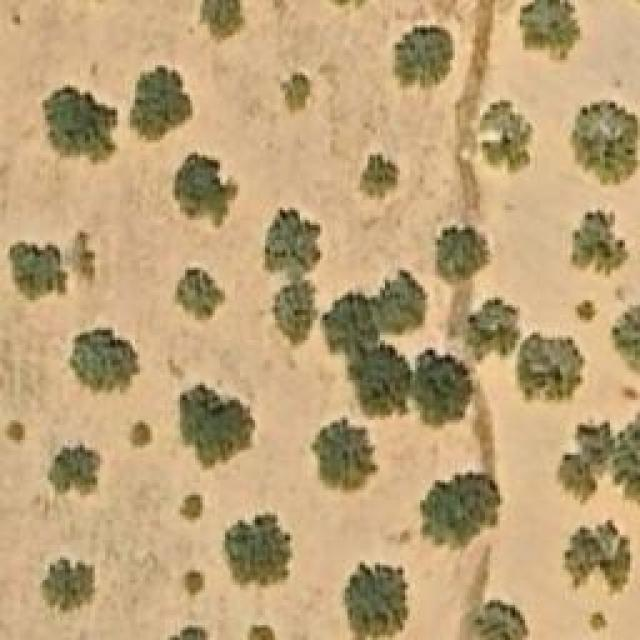Tree: (177, 385, 255, 470), (570, 103, 640, 188), (560, 518, 633, 598), (43, 88, 118, 163), (223, 513, 293, 588), (423, 475, 503, 540), (310, 420, 378, 493), (130, 65, 193, 143), (173, 153, 238, 228), (70, 327, 140, 395), (345, 565, 405, 640), (263, 205, 323, 278), (570, 208, 630, 278), (390, 25, 453, 90), (517, 0, 582, 62), (8, 240, 71, 300), (265, 283, 323, 348), (513, 338, 576, 393), (480, 100, 533, 165), (348, 348, 401, 413), (415, 353, 463, 423), (43, 558, 98, 613), (48, 445, 103, 500), (375, 273, 423, 336), (173, 268, 226, 323), (438, 228, 488, 283), (610, 303, 640, 383), (325, 300, 370, 353), (468, 303, 513, 356), (473, 600, 528, 640), (200, 0, 248, 45), (615, 408, 638, 498), (555, 450, 598, 498), (272, 70, 310, 115), (577, 423, 615, 468), (360, 155, 398, 198), (180, 493, 205, 523), (183, 570, 206, 600), (133, 420, 153, 448), (5, 420, 25, 445), (578, 300, 598, 320), (588, 613, 608, 633)
